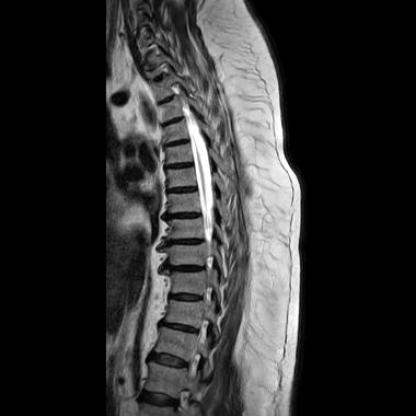Osteophytesrotation: (134, 70, 214, 416)
